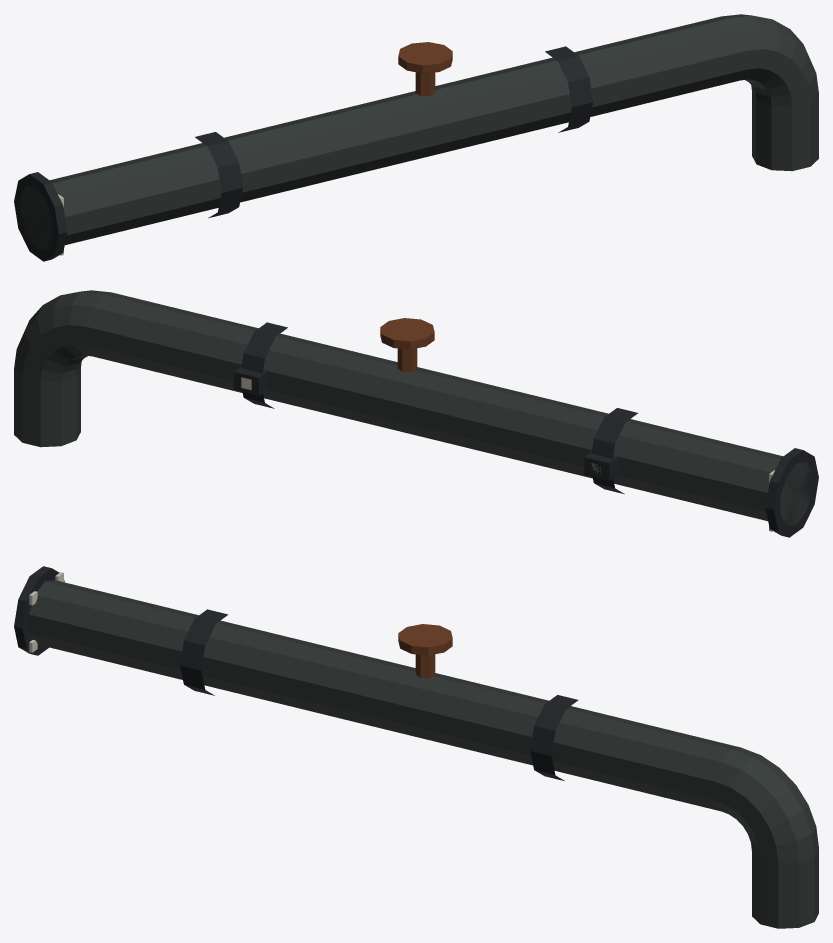
File: pipe_run.glb
3 renders of one model, top to bottom at view 1: azimuth 30°, elevation 25°; view 2: azimuth 150°, elevation 25°; view 3: azimuth 330°, elevation 25°, orthographic.
Parts seen in each view (by area): view 1: pipe_run; view 2: pipe_run; view 3: pipe_run.
Part boxes in pixels (bbox=[...]): pipe_run: bbox=[14, 14, 818, 261]; pipe_run: bbox=[14, 290, 818, 537]; pipe_run: bbox=[14, 566, 818, 928].
Bounding box in the file's own units: 2 × 0.47 × 0.21.
